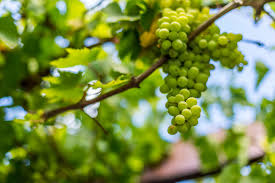grapes: (159, 9, 245, 139)
